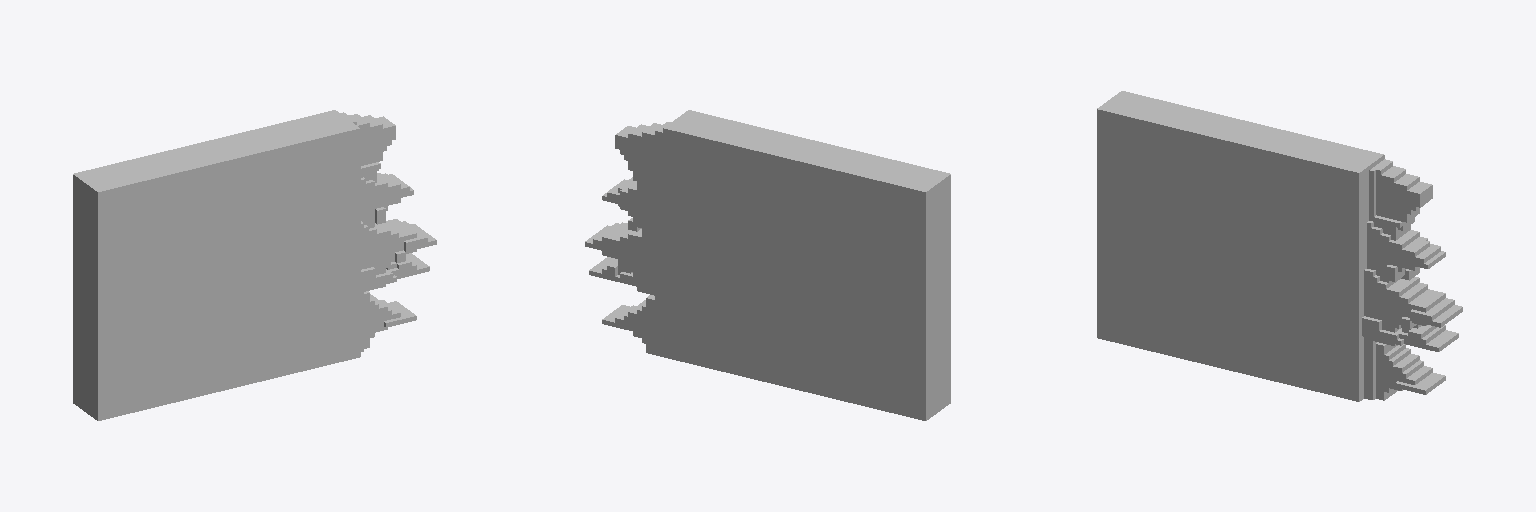
File: wingRight.obj
3 views of the same model, side by side, from view 1: azimuth 30°, elevation 25°; view 2: azimuth 150°, elevation 25°; view 3: azimuth 330°, elevation 25° (orthographic).
Parts seen in each view (by area): view 1: object 1; view 2: object 1; view 3: object 1.
Boxes of the visible parts, box(x1,y1,x2,y2) form: object 1: box(73, 110, 436, 420); object 1: box(585, 110, 950, 420); object 1: box(1097, 91, 1462, 401).
Bounding box in the file's own units: 7.8 × 5 × 1.